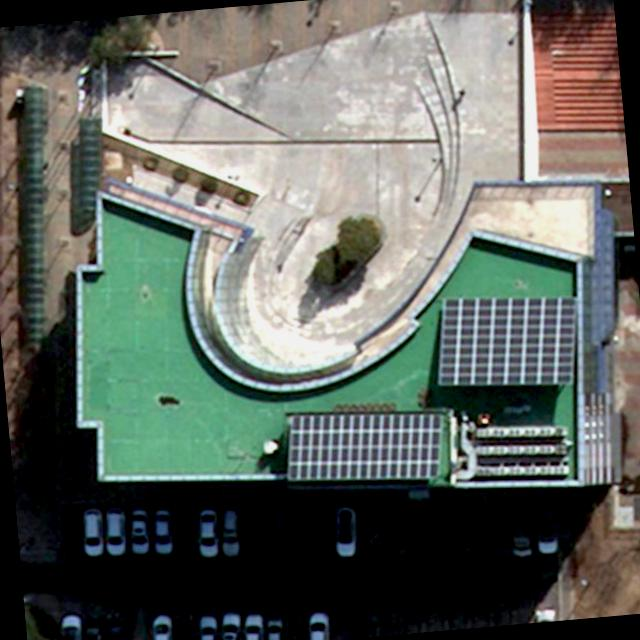solar: (428, 288, 586, 394), (277, 406, 452, 490)
